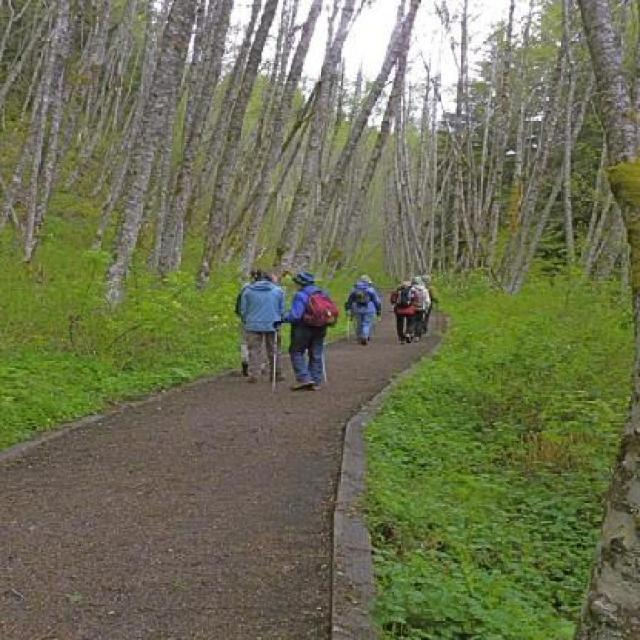backpack: (297, 289, 340, 328), (351, 288, 374, 309), (394, 288, 415, 309)
